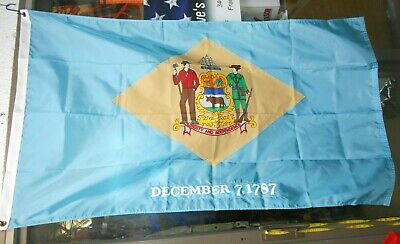Delaware flag: (17, 8, 396, 215)
